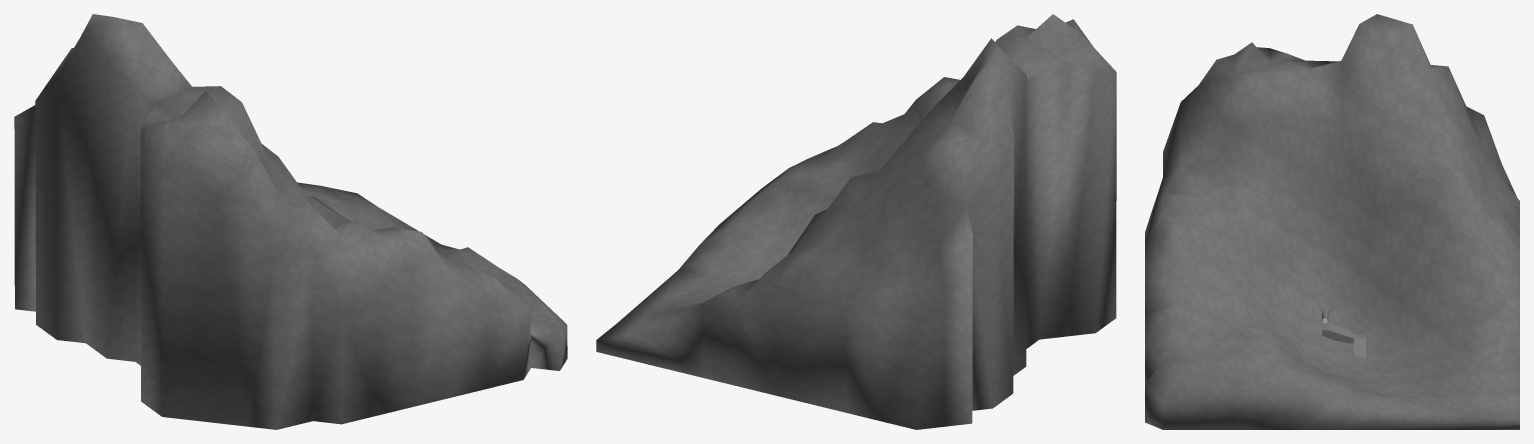
3 renders of one model, left to right at view 1: azimuth 30°, elevation 25°; view 2: azimuth 150°, elevation 25°; view 3: azimuth 270°, elevation 25°, orthographic. The views are drawn at different scales.
Visible parts, largest first — view 1: Landscape; view 2: Landscape; view 3: Landscape, Cube.002.
Boxes of the visible parts, bbox=[...] form: Landscape: bbox=[14, 14, 567, 429]; Landscape: bbox=[596, 14, 1116, 429]; Landscape: bbox=[1145, 14, 1519, 429]; Cube.002: bbox=[1322, 311, 1365, 358].
Size of the model in its own units: 324 by 281 by 340.
2 materials, 2 textured.
